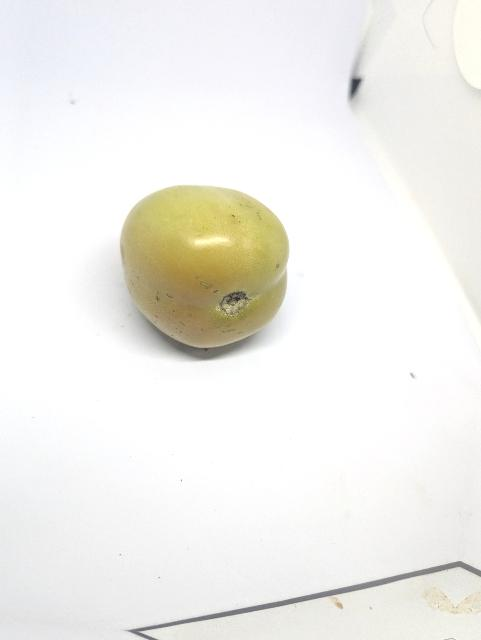breaker: (115, 182, 294, 354)
